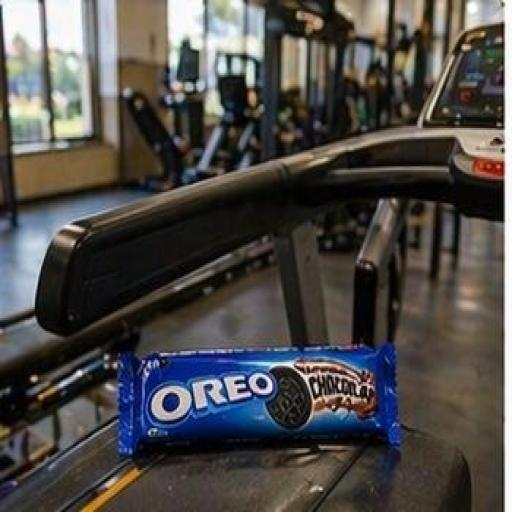oreo: (76, 304, 438, 484)
